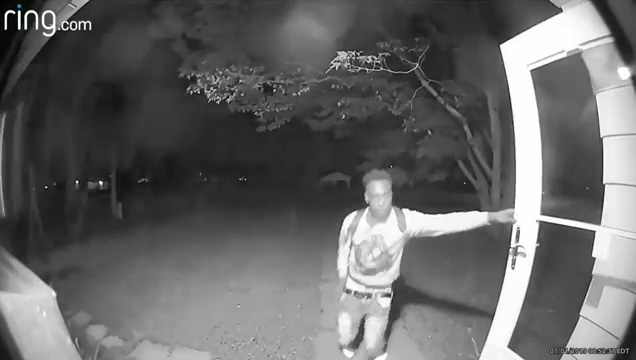face: (366, 187, 392, 214)
